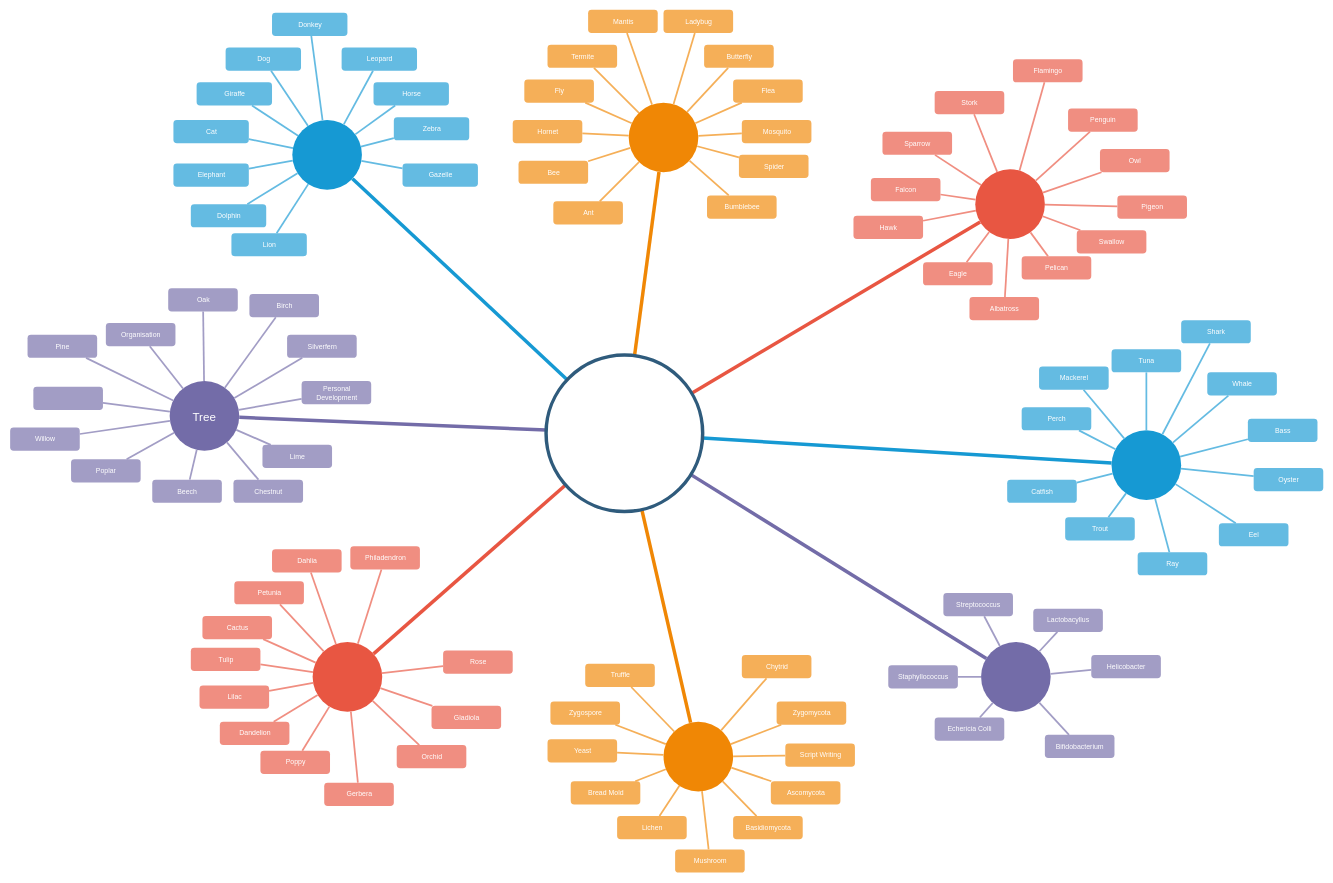
Image size: 1333x883. Some labels were removed from this diagram. The centre of each missing label's shape, as x and y in pixels:
"Acacia" belongs at (68,398).
"Bacteria" belongs at (1015,676).
"Bird" belongs at (1010,204).
"Fish" belongs at (1146,465).
"Flower" belongs at (347,676).
"Fungi" belongs at (698,756).
"Insect" belongs at (663,137).
"Mammal" belongs at (327,154).
"Nikola Golux" belongs at (624,433).
